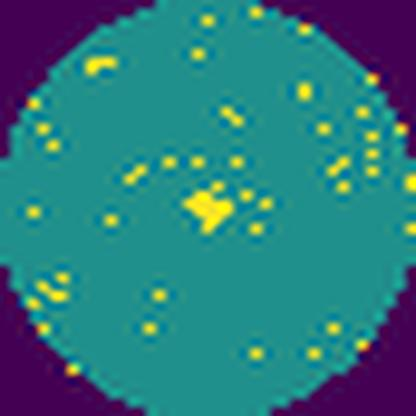Center: (182, 182, 240, 237)
